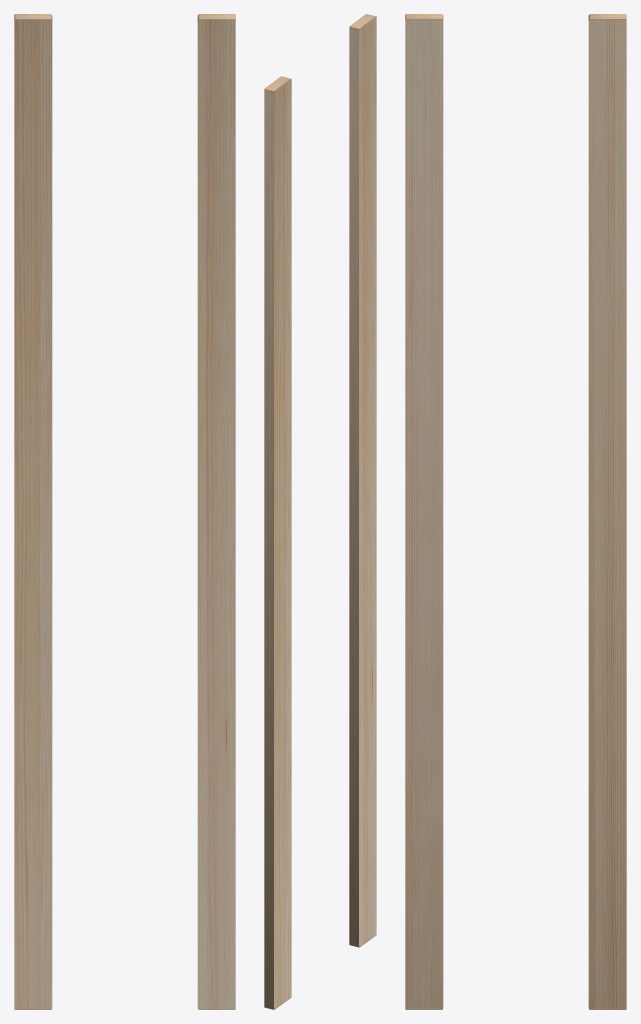
The picture shows the model from 3 angles, left to right: view 1: azimuth 90°, elevation 25°; view 2: azimuth 150°, elevation 25°; view 3: azimuth 270°, elevation 25°; orthographic projection. The views are drawn at different scales.
Parts seen in each view (by area): view 1: TransformZUpToYUp.065; view 2: TransformZUpToYUp.065; view 3: TransformZUpToYUp.065.
Boxes of the visible parts, left/top/right/bottom form: TransformZUpToYUp.065: left=14, top=14, right=235, bottom=1009; TransformZUpToYUp.065: left=264, top=14, right=376, bottom=1009; TransformZUpToYUp.065: left=405, top=14, right=626, bottom=1009.
Size of the model in its own units: 16 by 1441 by 292.
Materials: 1 (1 with a texture image).
